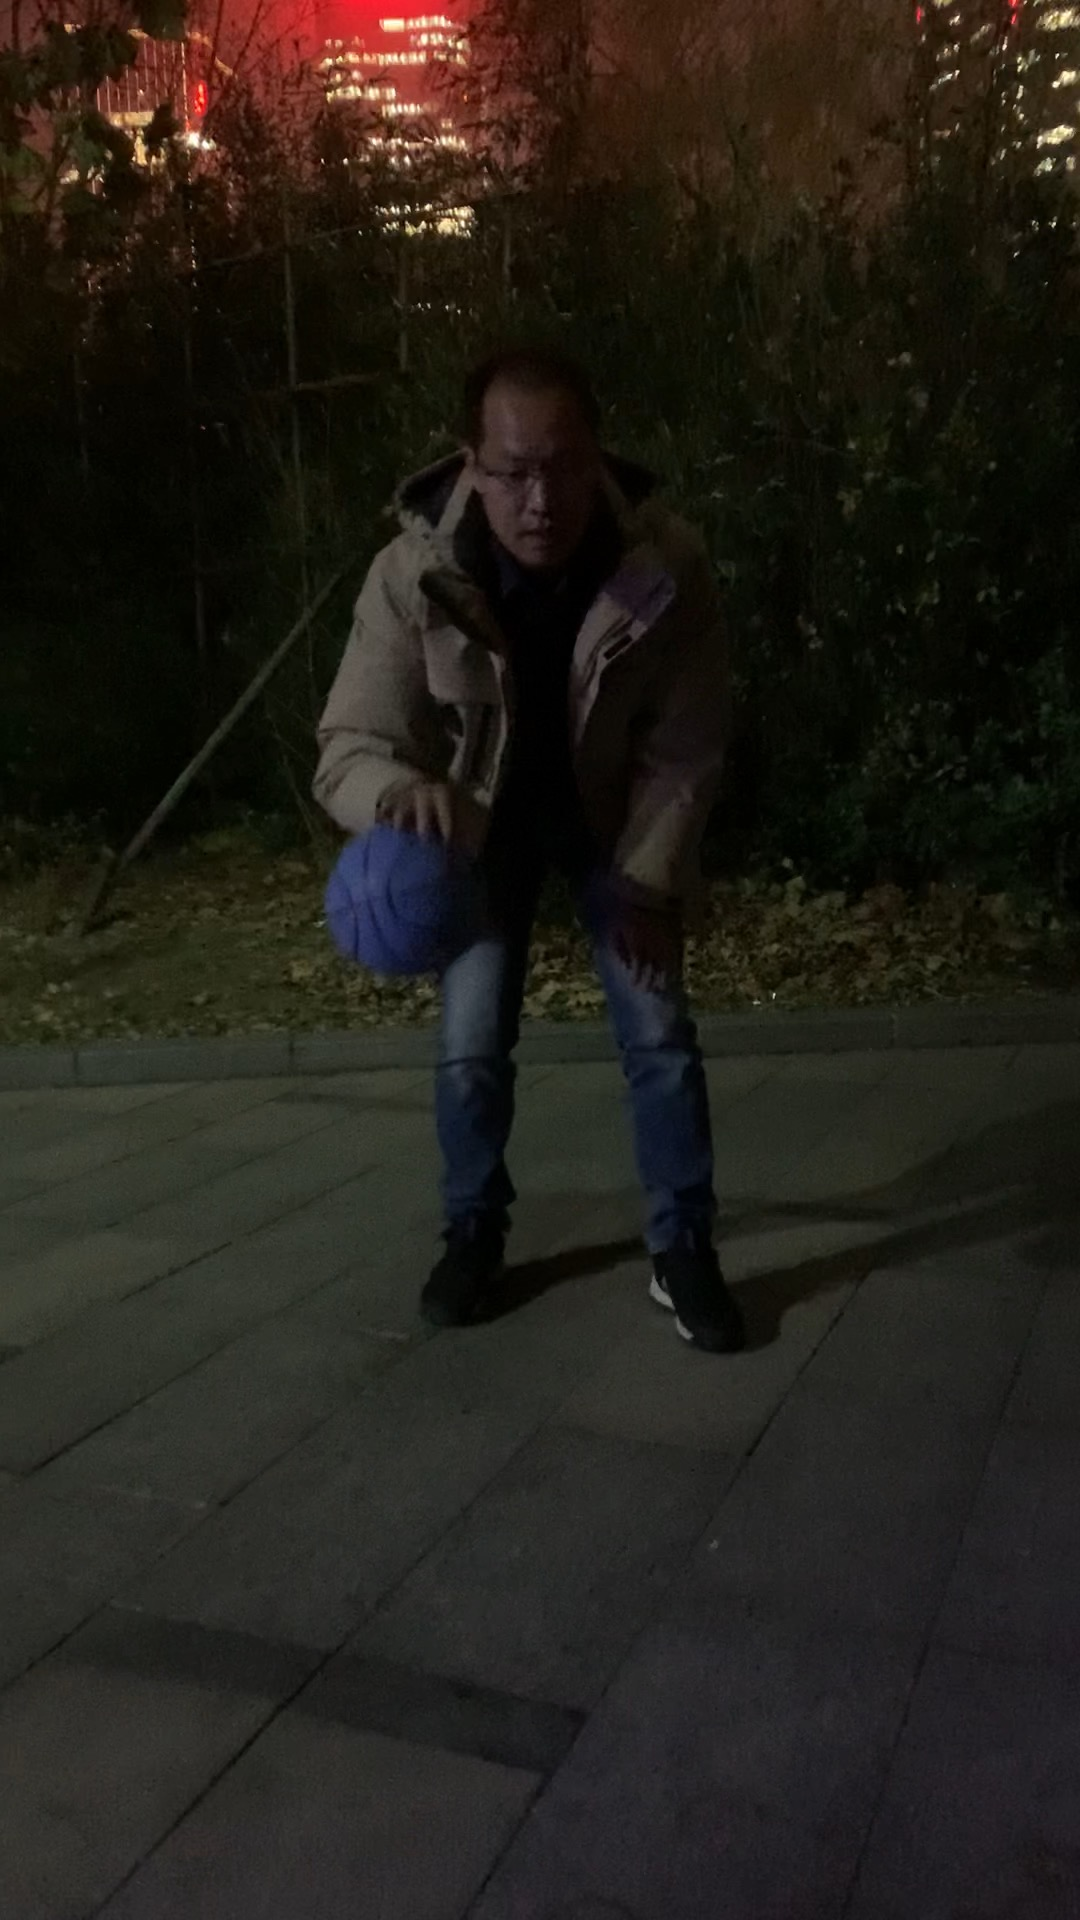ball: (326, 816, 489, 980)
